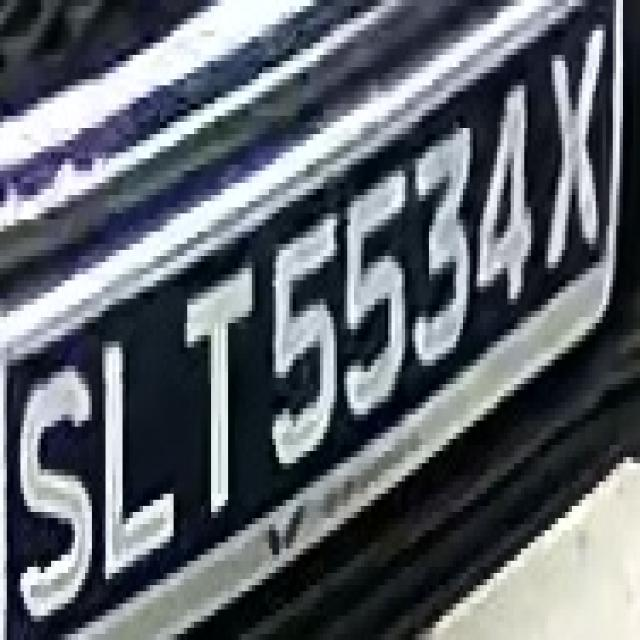3: (402, 103, 480, 360)
4: (463, 85, 538, 323)
5: (337, 164, 412, 420), (266, 213, 334, 488)
L: (89, 329, 177, 573)
S: (21, 347, 102, 634)
T: (167, 268, 259, 506)
X: (545, 25, 609, 268)
